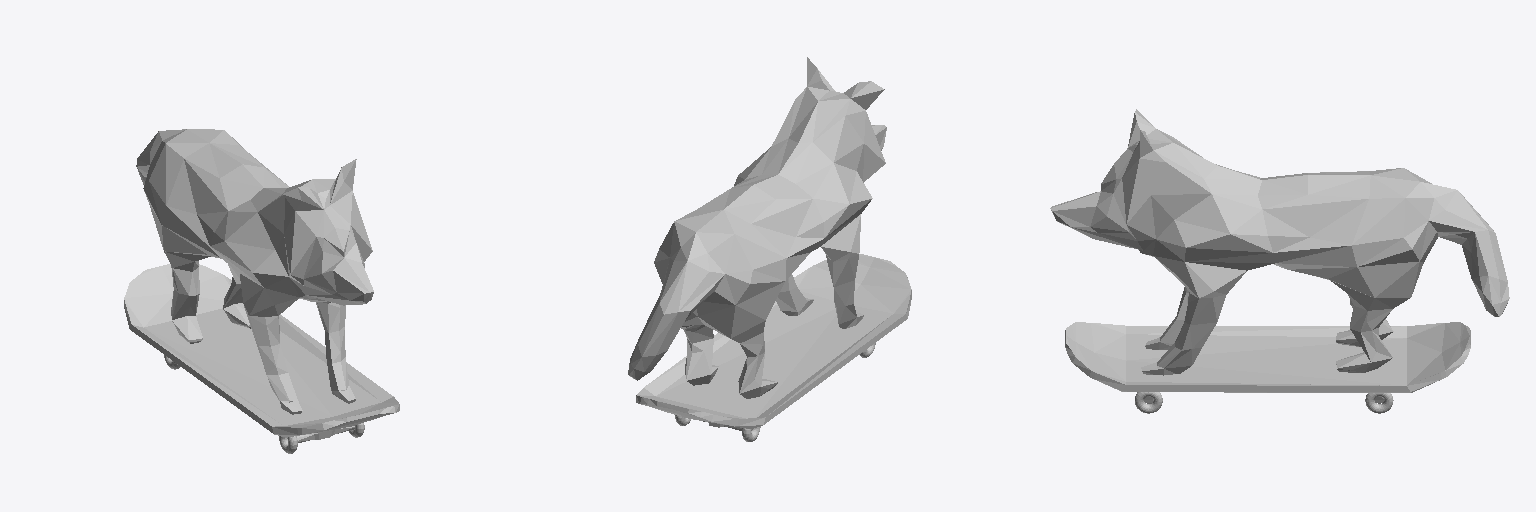
File: Fuchs11.obj
3 views of the same model, side by side, from view 1: azimuth 30°, elevation 25°; view 2: azimuth 150°, elevation 25°; view 3: azimuth 270°, elevation 25° (orthographic).
Bounding box in the file's own units: 3.58 × 7.89 × 11.66.